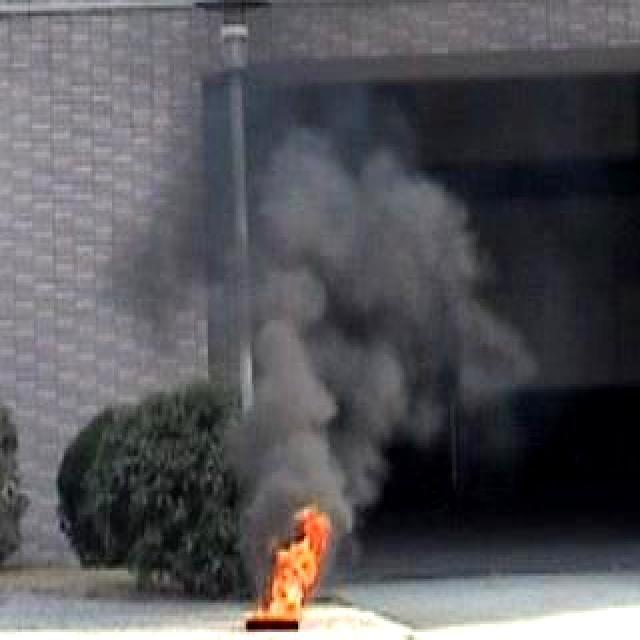Fire: (244, 508, 346, 624)
Smoke: (98, 16, 554, 501)
